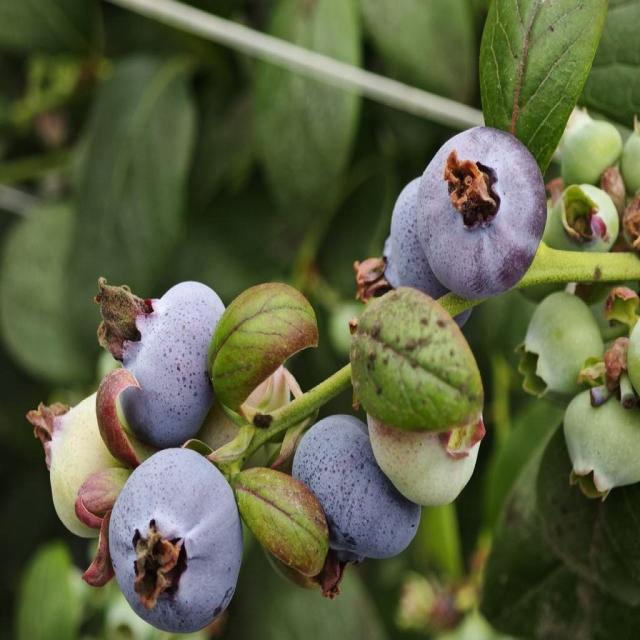RipeBlueBerry: (104, 444, 246, 636), (414, 123, 549, 303), (289, 412, 423, 567), (110, 275, 227, 445), (382, 175, 470, 329)
UnripeBlueBerry: (368, 395, 488, 507), (45, 389, 132, 540), (528, 292, 606, 406), (563, 386, 640, 499), (553, 181, 621, 256)
